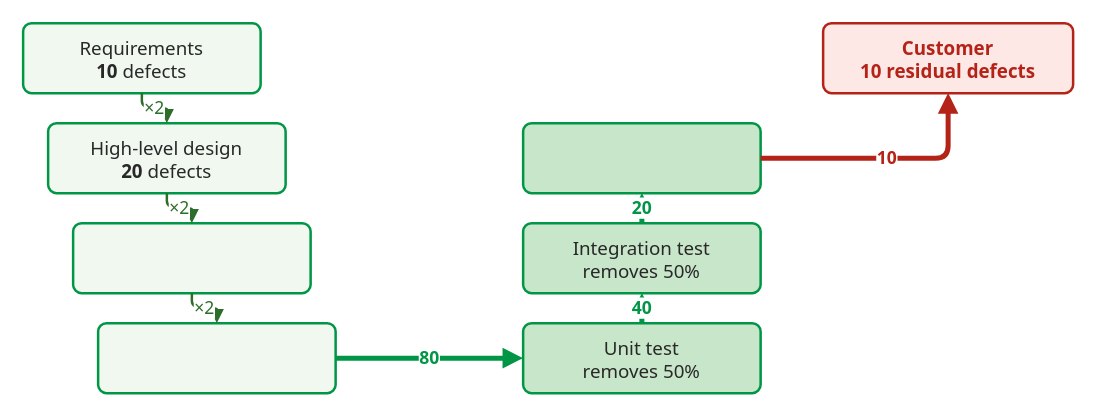
Image size: 1095x415. Some labels were removed from this diagram. Each missing label, with the box of its shape:
Coding 80 defects: (96, 321, 336, 394)
Low-level design 40 defects: (71, 221, 311, 294)
System test removes 50%: (521, 121, 761, 194)
